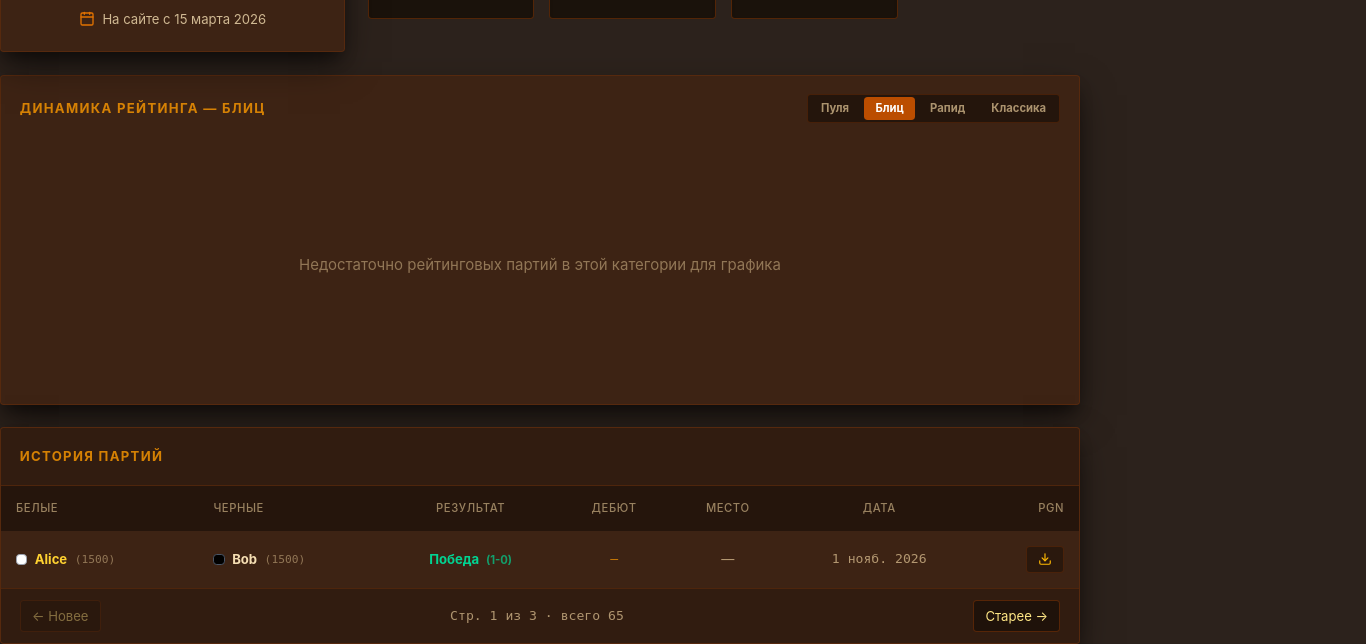
Test: Profile: итоги и история рейтинга › история партий листается по страницам
(page scrolled)
expect the text "Стр. 1 из 3 · всего 65" is shown: met, box [450, 607, 624, 625]
expect the button "← Новее" is disabled: met, box [20, 600, 101, 632]
Click the button "Старее →".
click(1017, 616)  # box [973, 600, 1060, 632]
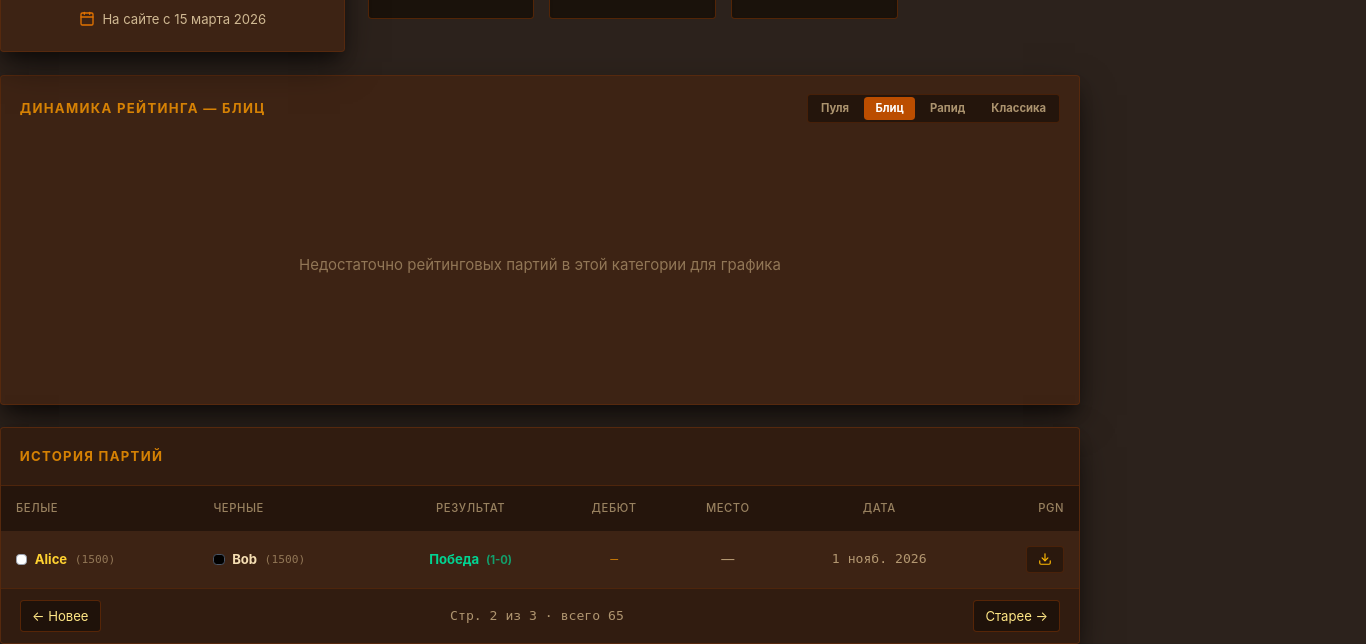
expect the text "Стр. 2 из 3 · всего 65" is shown: met, box [450, 607, 624, 625]
